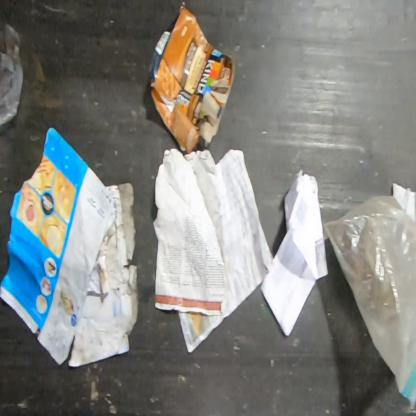cardboard: (147, 2, 238, 155)
soft_plastic: (321, 193, 416, 412), (0, 21, 24, 126)
